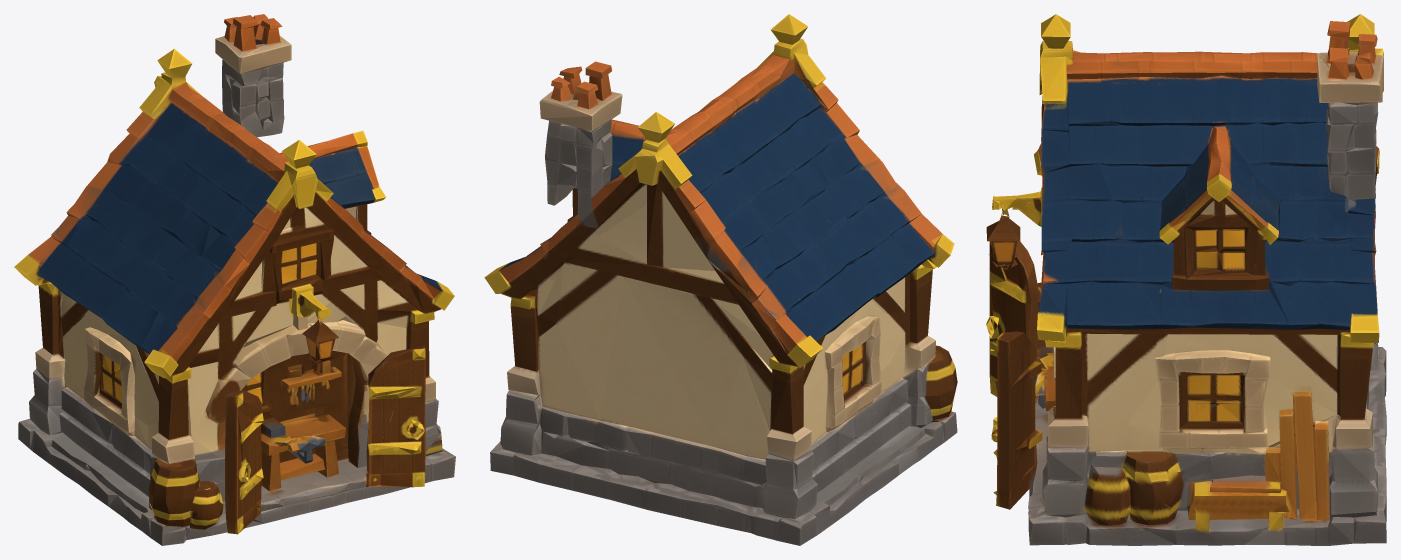
File: TWN_STR_workshop_A.glb
The picture shows the model from 3 angles, left to right: view 1: azimuth 30°, elevation 25°; view 2: azimuth 150°, elevation 25°; view 3: azimuth 270°, elevation 25°; orthographic projection. The views are drawn at different scales.
Parts seen in each view (by area): view 1: Mesh_0; view 2: Mesh_0; view 3: Mesh_0.
Boxes of the visible parts, x1,y1,x2,y2 form: Mesh_0: (14, 14, 455, 545); Mesh_0: (484, 14, 957, 545); Mesh_0: (986, 14, 1386, 545).
Size of the model in its own units: 1.58 by 1.9 by 1.46.
Materials: 1 (1 with a texture image).
